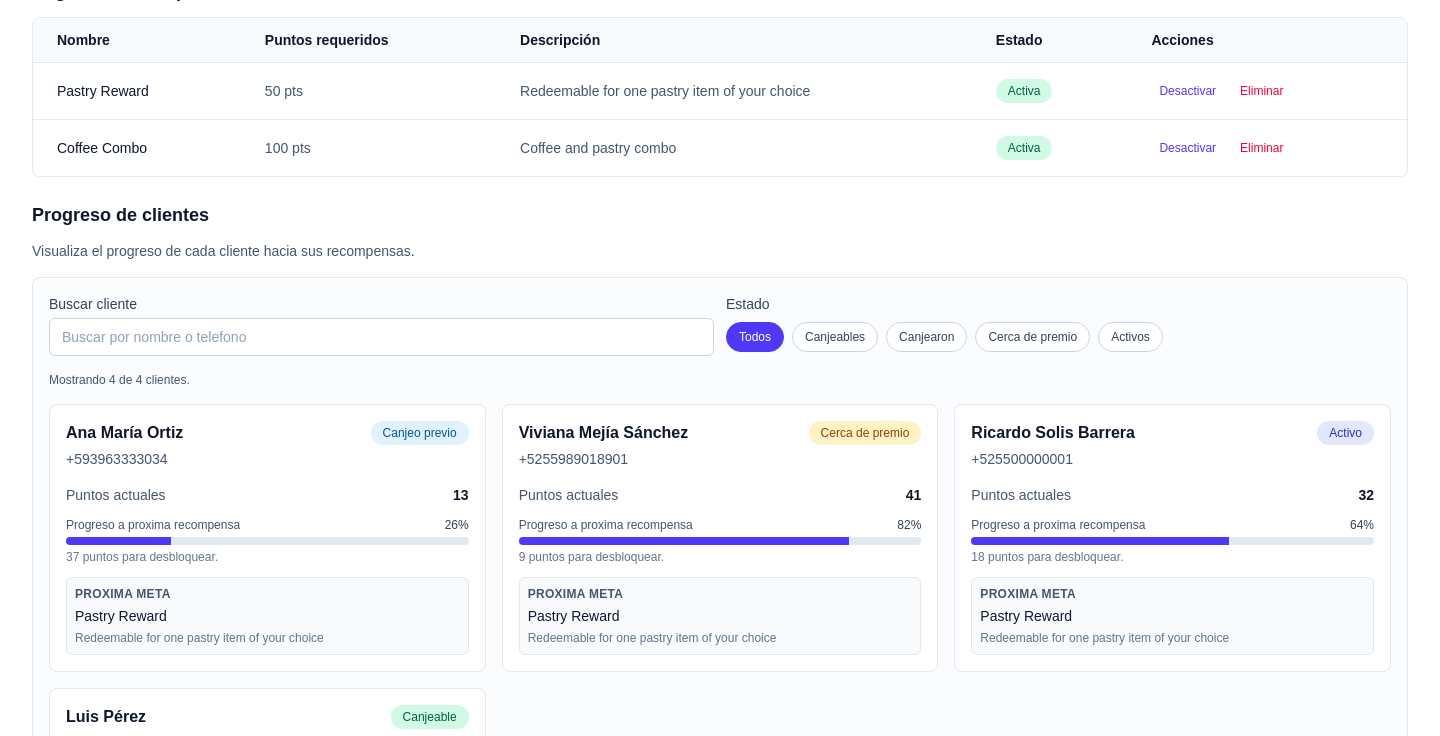
DashboardRewardsPage (/dashboard/rewards) › shows friendly empty state when filters remove all customers
The image size is (1440, 736).
(page scrolled)
Step 1. Type "cliente inexistente" into the search field labelled "Buscar cliente" → (382, 337), box [49,318,714,356]
(page scrolled)
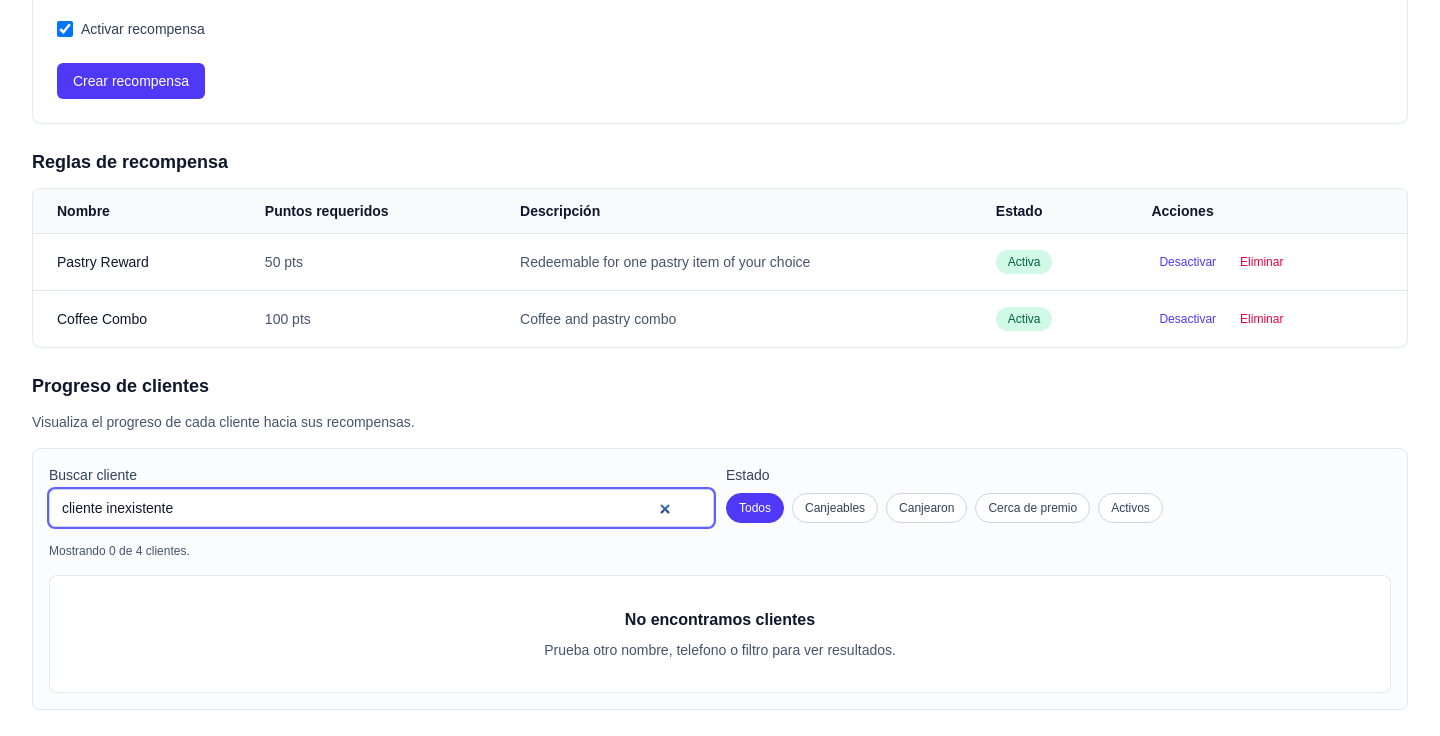
Expected: the heading "No encontramos clientes" is shown, [625,611,815,628]
Expected: the text "Prueba otro nombre, telefono o filtro para ver resultados." is shown, [544,642,896,658]
